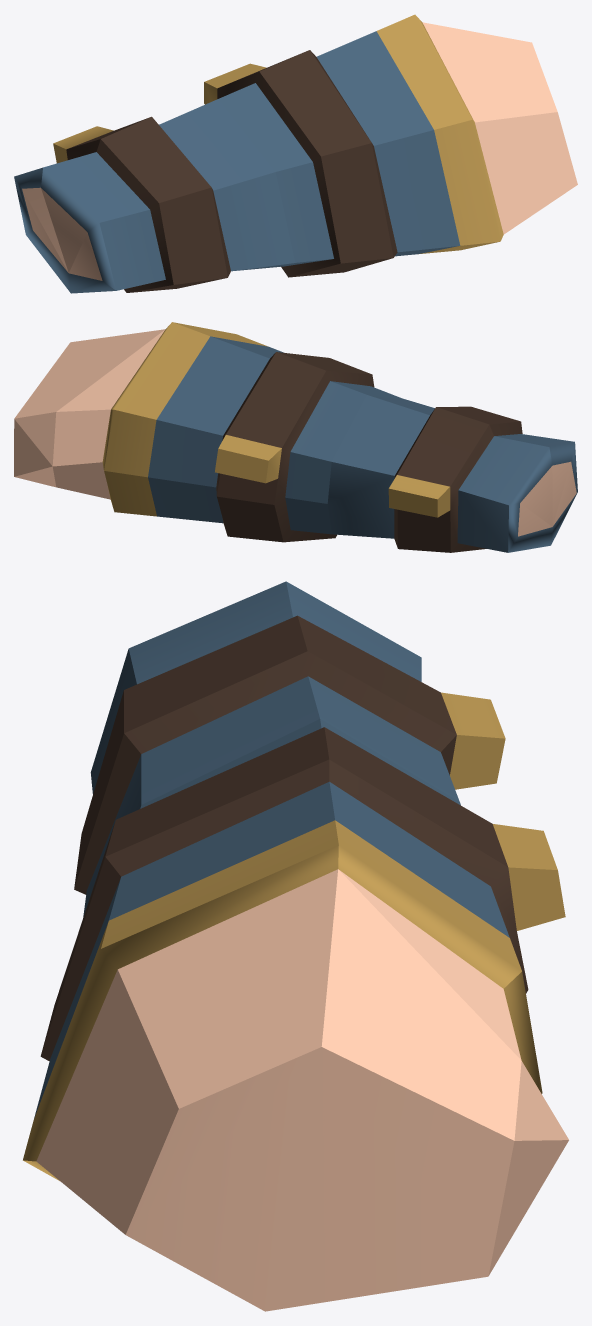
File: Chr_ArmLowerRight_Male_14_Static.fbx
3 renders of one model, top to bottom at view 1: azimuth 30°, elevation 25°; view 2: azimuth 150°, elevation 25°; view 3: azimuth 270°, elevation 25°, orthographic. The views are drawn at different scales.
Visible parts, largest first — view 1: Chr_ArmLowerRight_Male_14_Static; view 2: Chr_ArmLowerRight_Male_14_Static; view 3: Chr_ArmLowerRight_Male_14_Static.
Boxes of the visible parts, x1=… form: Chr_ArmLowerRight_Male_14_Static: x1=14, y1=14, x2=577, y2=293; Chr_ArmLowerRight_Male_14_Static: x1=14, y1=322, x2=577, y2=552; Chr_ArmLowerRight_Male_14_Static: x1=23, y1=581, x2=568, y2=1311.
Bounding box in the file's own units: 0.2896 × 0.1199 × 0.1406.
